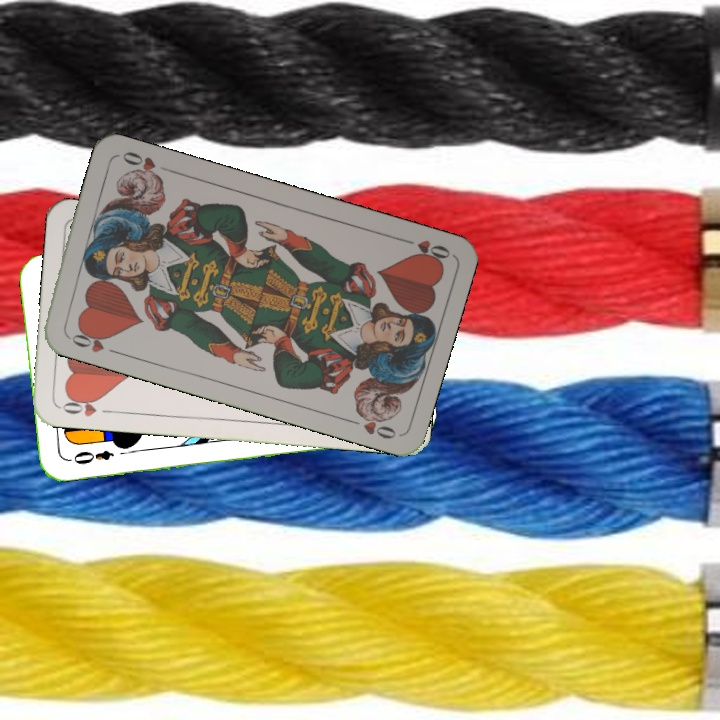EO: (63, 446, 117, 467)
HO: (63, 323, 121, 357), (395, 234, 453, 266), (56, 392, 115, 419)
